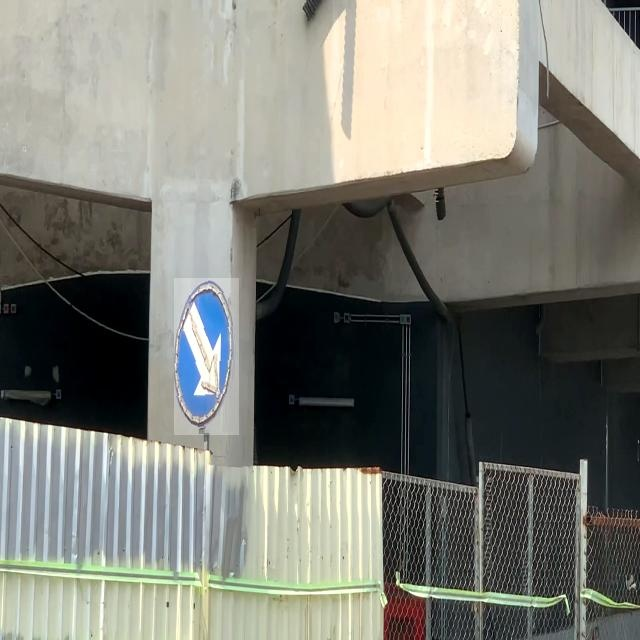bien_hieu_lenh: (174, 278, 239, 435)
